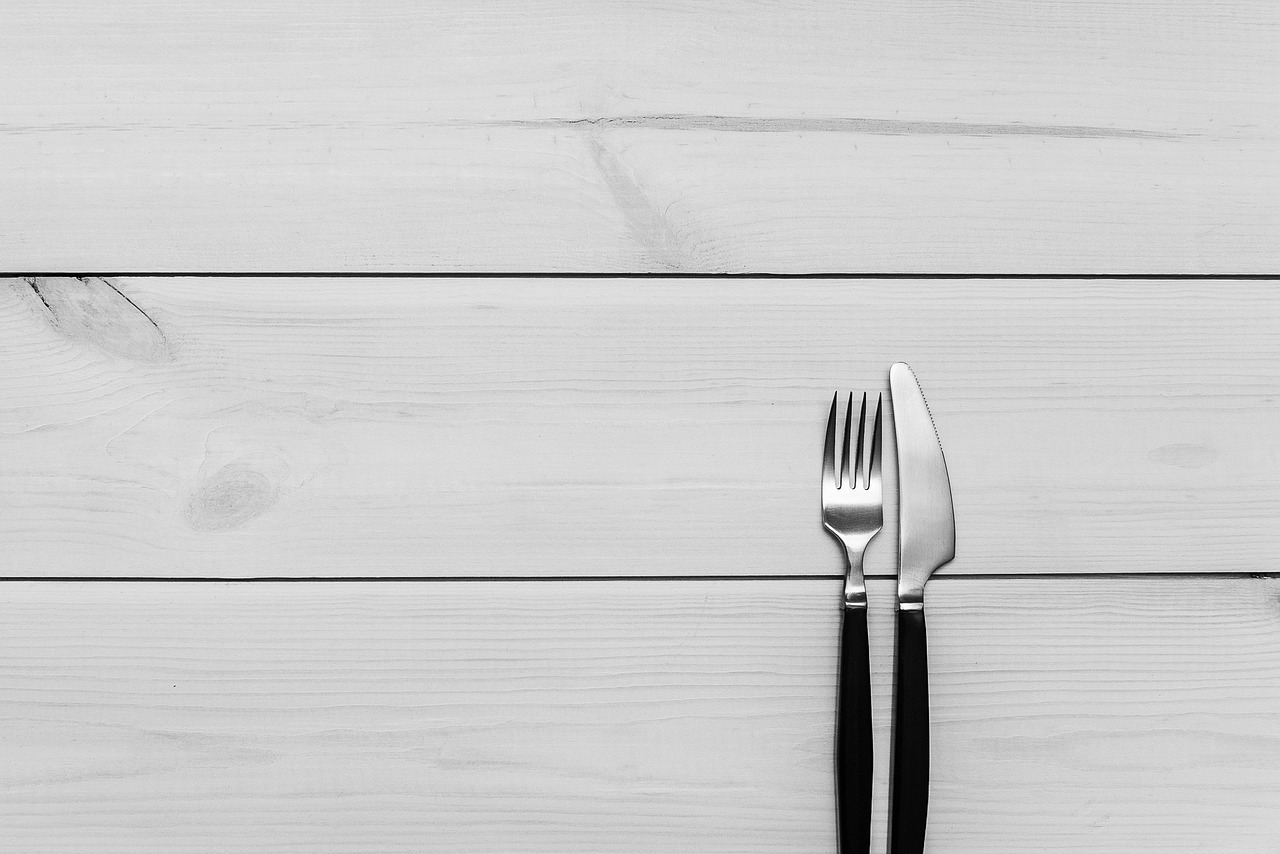knife: (878, 354, 960, 854)
